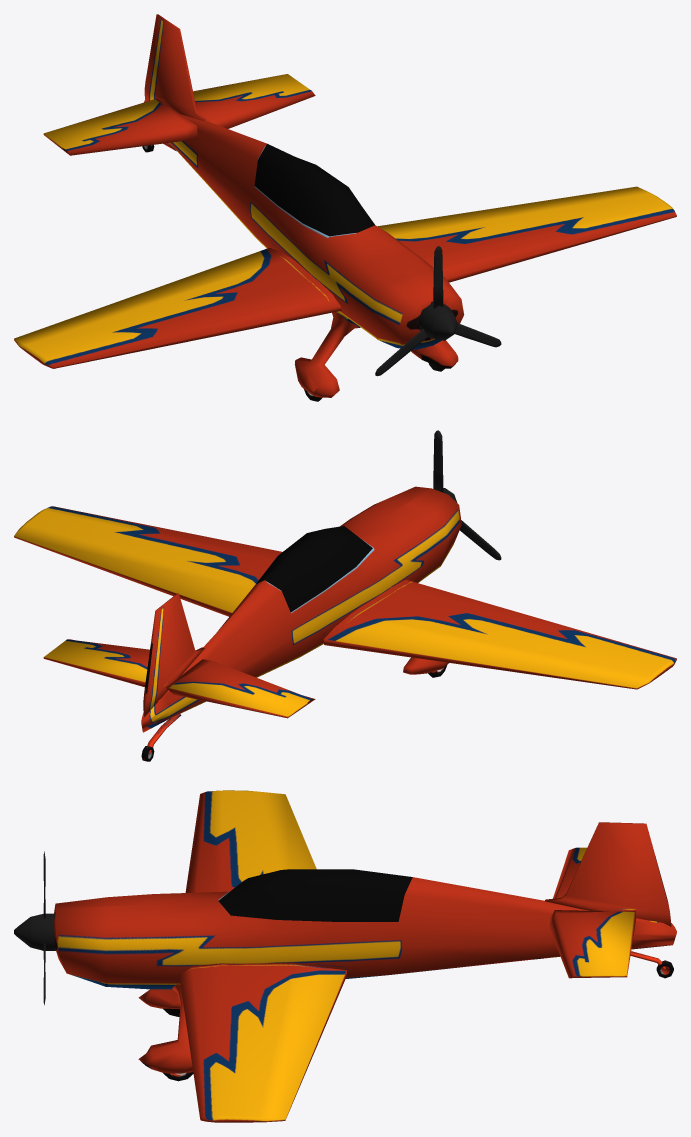
The model's file is kit-stunt-plane.glb.
The picture shows the model from 3 angles, top to bottom: view 1: azimuth 30°, elevation 25°; view 2: azimuth 150°, elevation 25°; view 3: azimuth 270°, elevation 25°; orthographic projection. The views are drawn at different scales.
Parts seen in each view (by area): view 1: stuntPlaneBody, stuntPlaneProp; view 2: stuntPlaneBody, stuntPlaneProp; view 3: stuntPlaneBody, stuntPlaneProp.
Part boxes in pixels (<box>): stuntPlaneBody: <box>14,14,676,401</box>; stuntPlaneProp: <box>375,246,501,376</box>; stuntPlaneBody: <box>14,486,676,761</box>; stuntPlaneProp: <box>433,430,501,560</box>; stuntPlaneBody: <box>54,790,676,1122</box>; stuntPlaneProp: <box>14,851,55,1005</box>.
Size of the model in its own units: 3.78 by 1.22 by 3.22.
3 materials, 1 textured.
